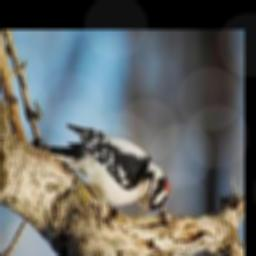Woodpecker: (40, 123, 168, 218)
